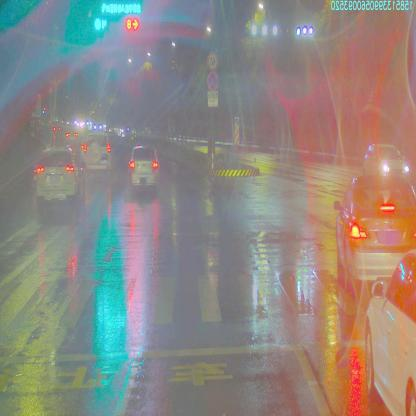traffic-light: (99, 4, 144, 16), (93, 18, 111, 33), (127, 16, 140, 32)
